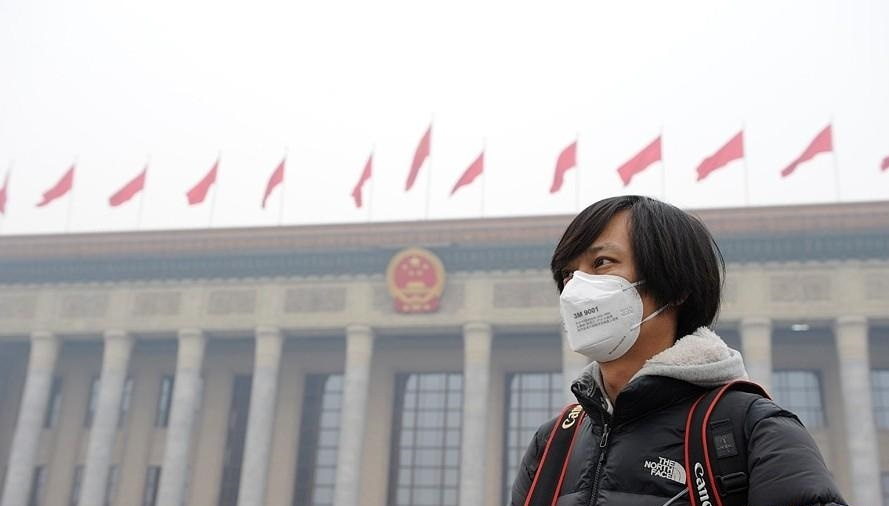Mask: (547, 239, 659, 350)
